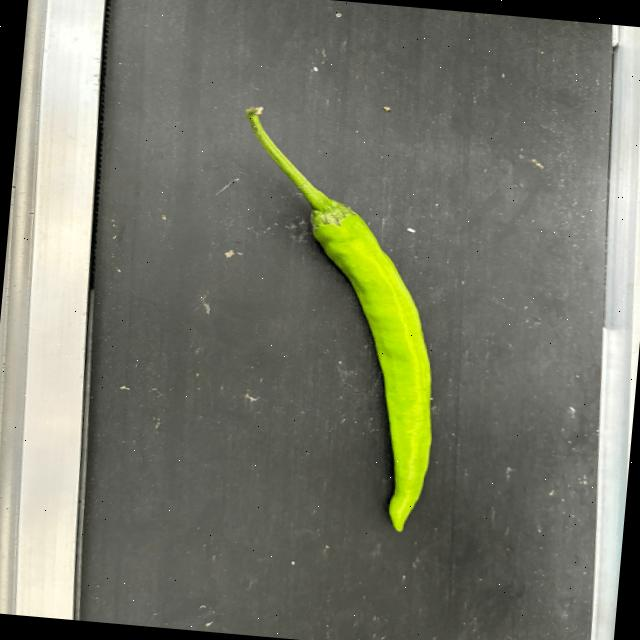chili: (307, 197, 432, 535)
